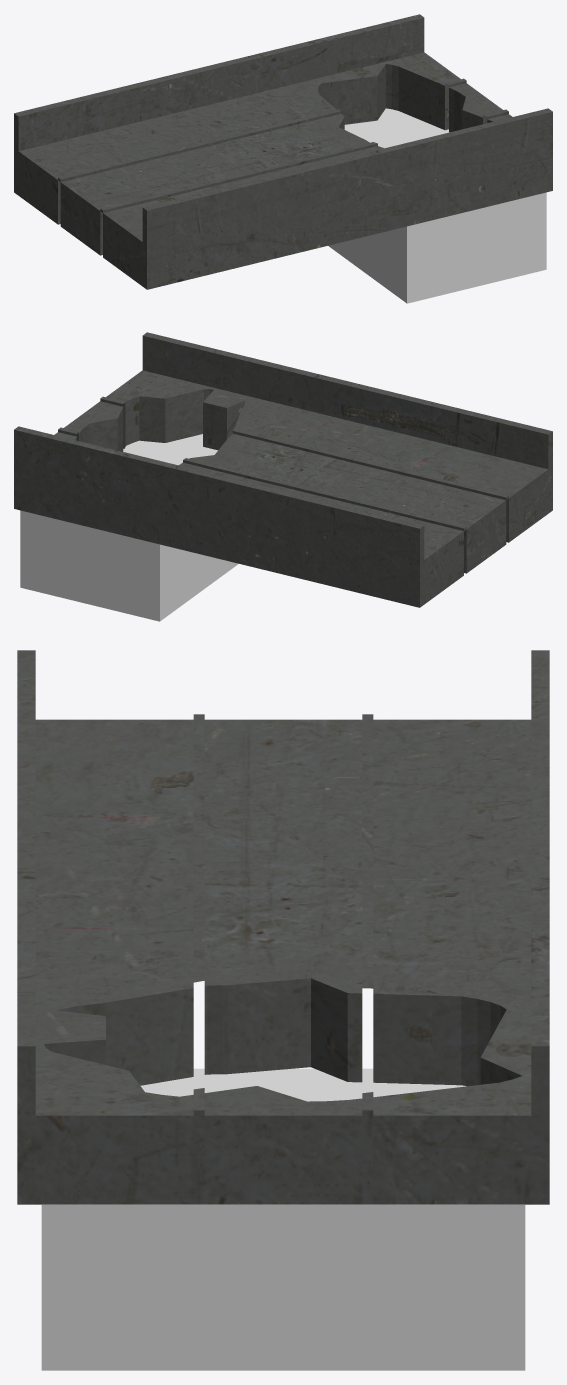
File: Textured Level pothole.fbx
3 views of the same model, one above another, from view 1: azimuth 30°, elevation 25°; view 2: azimuth 150°, elevation 25°; view 3: azimuth 270°, elevation 25° (orthographic). The views are drawn at different scales.
Parts seen in each view (by area): view 1: Cube.001, Cube; view 2: Cube.001, Cube; view 3: Cube.001, Cube.
Boxes of the visible parts, left/top/right/bottom form: Cube.001: left=14, top=14, right=552, bottom=289; Cube: left=328, top=108, right=546, bottom=303; Cube.001: left=14, top=332, right=552, bottom=607; Cube: left=20, top=434, right=238, bottom=621; Cube.001: left=17, top=650, right=549, bottom=1204; Cube: left=41, top=1068, right=525, bottom=1370.
Size of the model in its own units: 1911 by 730 by 1086.
